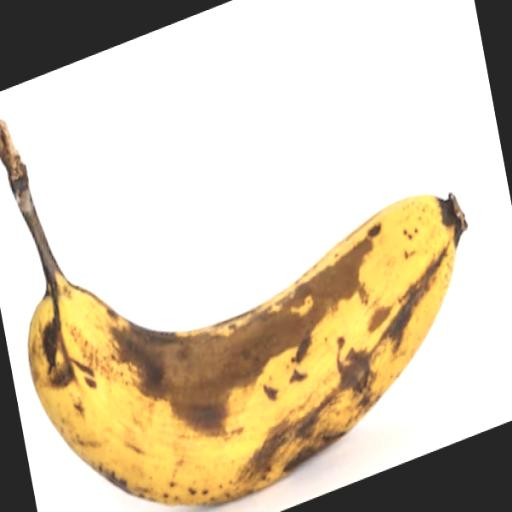banana-overripe: (0, 73, 472, 512)
